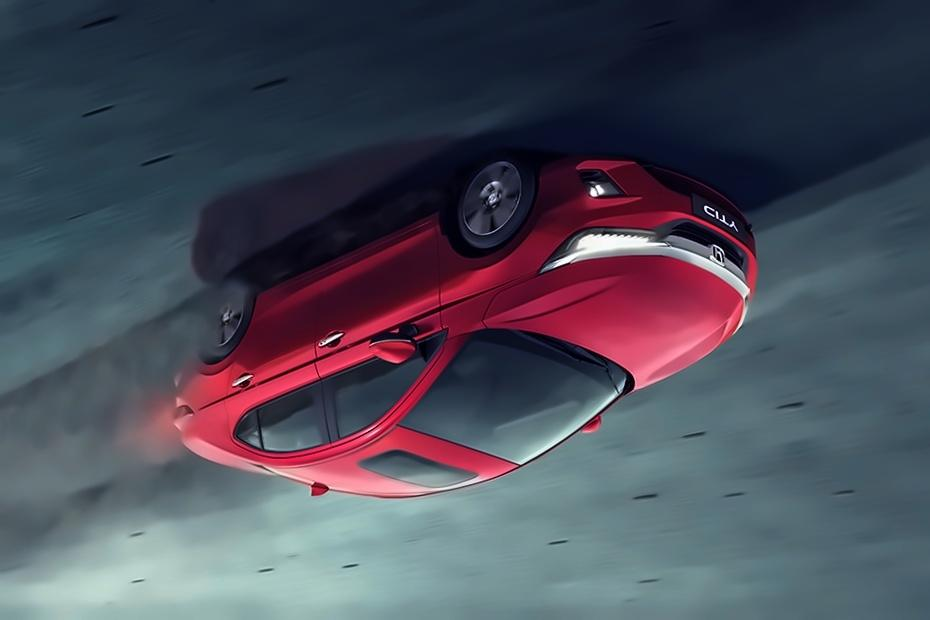Car hood: (485, 247, 746, 393)
Fender - -F-L-: (426, 197, 559, 347)
Fender - -R-L-: (166, 306, 255, 473)
Front bumper: (522, 157, 770, 303)
Headlight - -L-: (533, 224, 675, 278)
Passenger-s door - -F-L-: (307, 197, 458, 471)
Passenger-s door - -R-L-: (220, 239, 348, 482)
Side bumper - -L-: (243, 195, 450, 334)
Side mirror - -L-: (364, 325, 429, 367)
